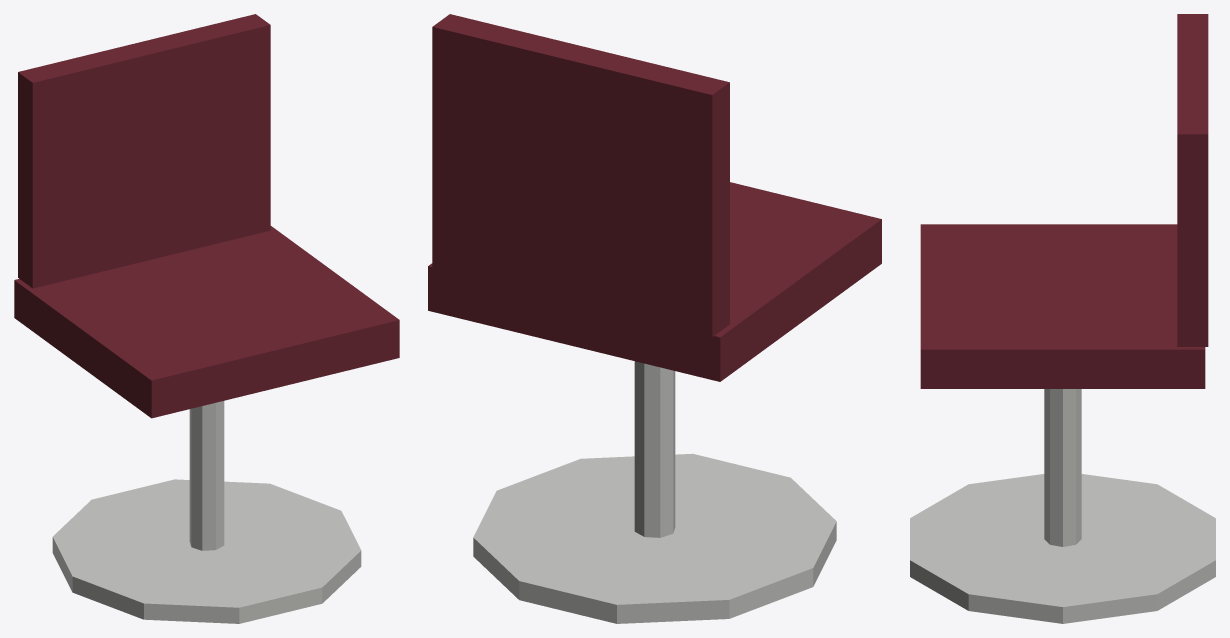
The model's file is cadeira_atendimento.obj.
The picture shows the model from 3 angles, left to right: view 1: azimuth 30°, elevation 25°; view 2: azimuth 150°, elevation 25°; view 3: azimuth 270°, elevation 25°; orthographic projection. The views are drawn at different scales.
Visible parts, largest first — view 1: cadeira_atendimento; view 2: cadeira_atendimento; view 3: cadeira_atendimento.
Part boxes in pixels (bbox=[...]): cadeira_atendimento: bbox=[14, 14, 399, 623]; cadeira_atendimento: bbox=[428, 14, 881, 623]; cadeira_atendimento: bbox=[910, 14, 1215, 623].
Bounding box in the file's own units: 52 × 86 × 49.46.
